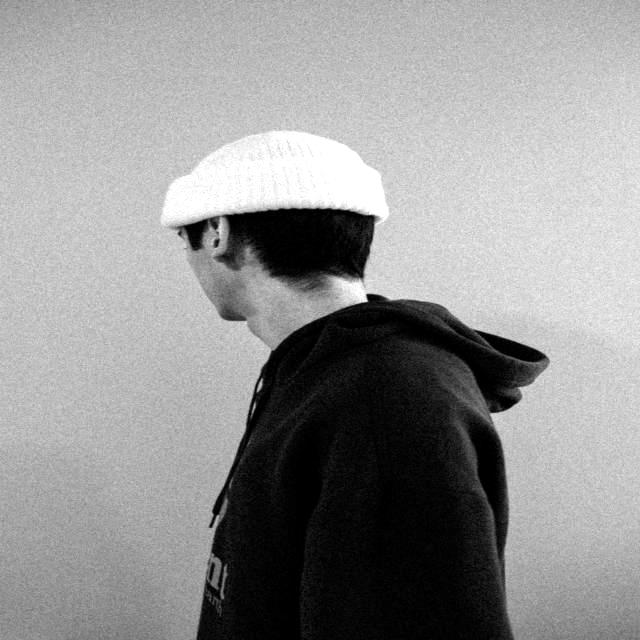no_hard_hat: (161, 131, 388, 227)
person: (162, 132, 539, 640)
